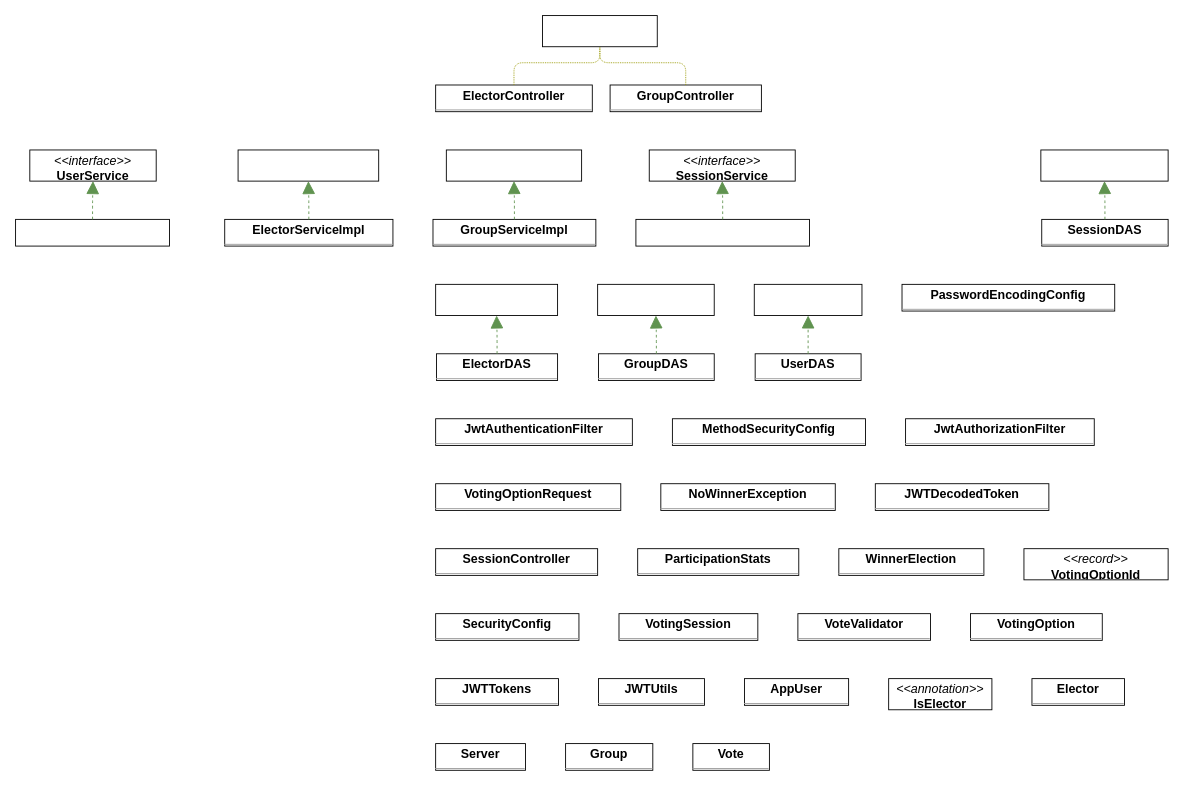
Some shapes in this 1184 by 786 pixel diagram are drawn without their labels. Here are the shapes that lost their labels. From the top down, the centre of each, then its label:
(599,31): <<annotation>> IsManager
(308,165): <<interface>> ElectorService
(513,165): <<interface>> GroupService
(1104,165): <<interface>> SessionDAO
(92,232): UserServiceImpl
(722,232): SessionServiceImpl
(496,299): <<interface>> ElectorDAO
(655,299): <<interface>> GroupDAO
(807,299): <<interface>> UserDAO
